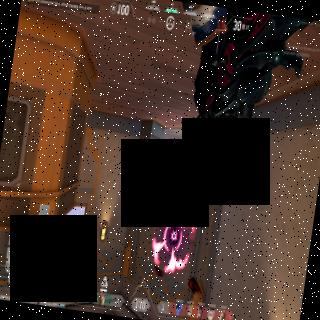ENEMY-BODY: (161, 136, 174, 168)
ENEMY-HEAD: (164, 162, 167, 166)
